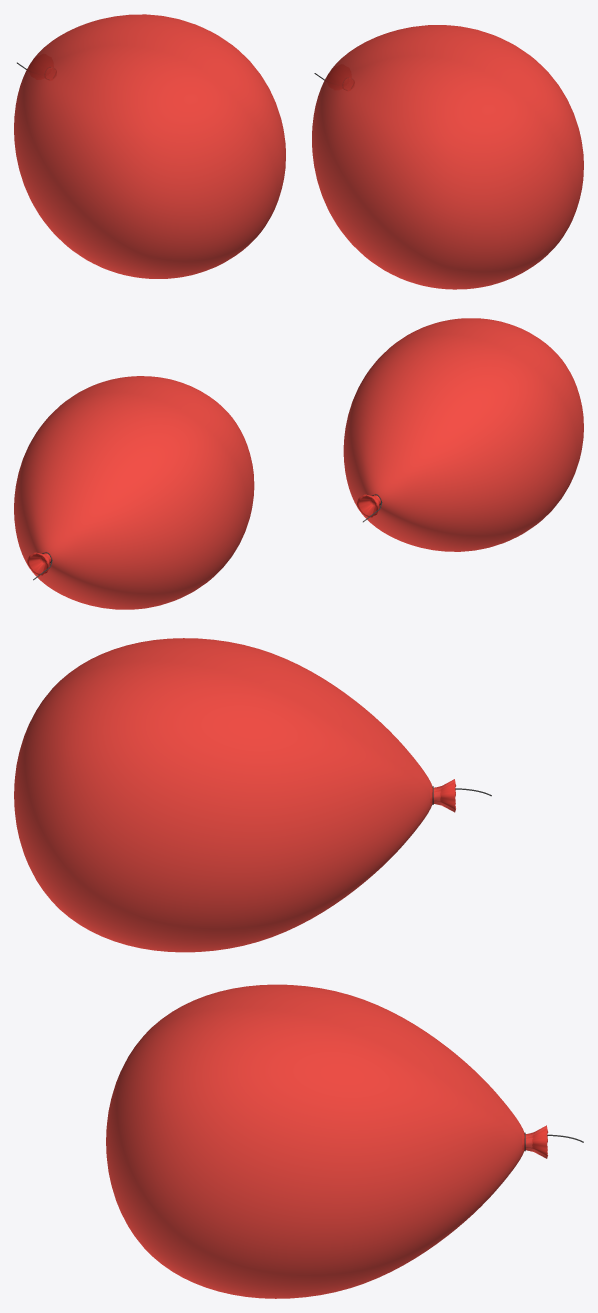
File: baloons.glb
3 renders of one model, top to bottom at view 1: azimuth 30°, elevation 25°; view 2: azimuth 150°, elevation 25°; view 3: azimuth 270°, elevation 25°, orthographic. The views are drawn at different scales.
Parts seen in each view (by area): view 1: Cube003, Cube001; view 2: Cube001, Cube003; view 3: Cube001, Cube003.
Part boxes in pixels (x1,y1,x2,y2): Cube003: (312, 25, 583, 289); Cube001: (14, 14, 285, 278); Cube001: (343, 318, 583, 551); Cube003: (14, 376, 254, 609); Cube001: (14, 638, 491, 952); Cube003: (106, 984, 583, 1298).
Bounding box in the file's own units: 0.965 × 0.5806 × 0.7031.
